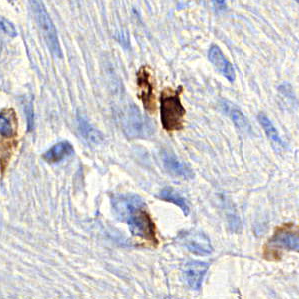Lymphocyte: (158, 86, 189, 133)
